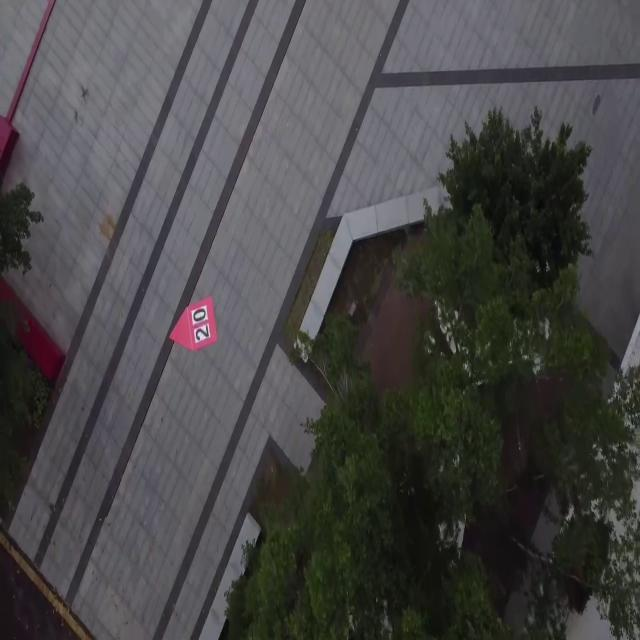-sign-: (168, 294, 218, 352)
